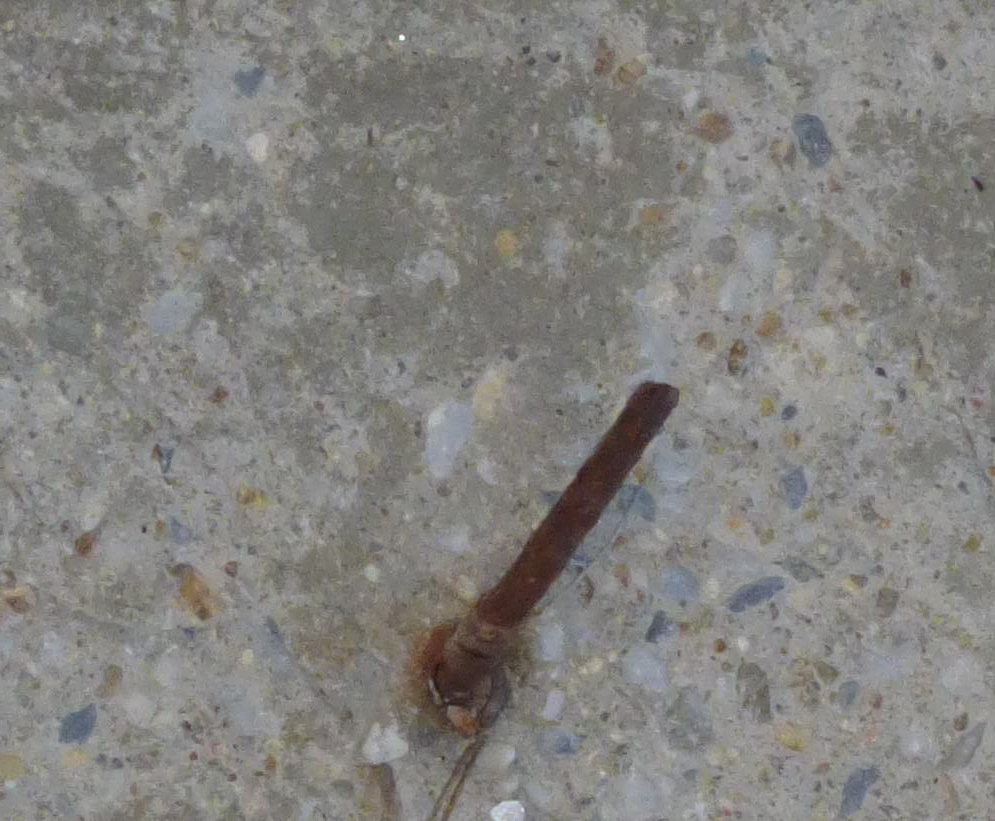Exposed reinforcement: (432, 378, 683, 696)
